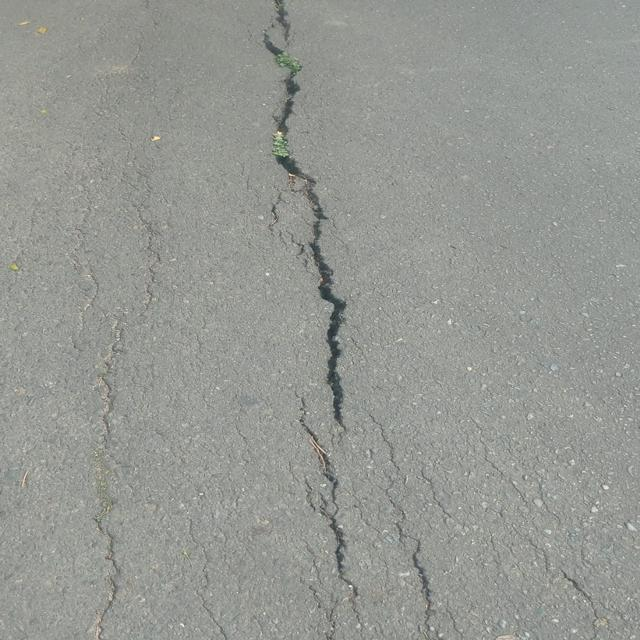Memanjang: (255, 0, 356, 445), (286, 406, 380, 640), (77, 333, 130, 640), (383, 494, 458, 640)
